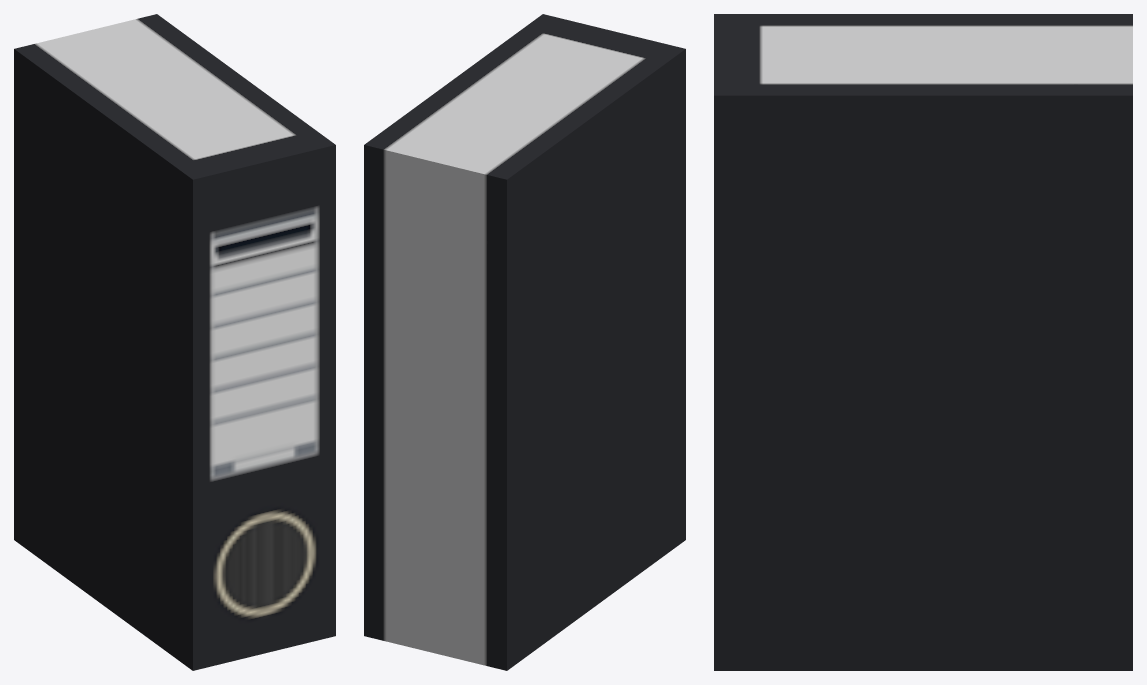
The picture shows the model from 3 angles, left to right: view 1: azimuth 30°, elevation 25°; view 2: azimuth 150°, elevation 25°; view 3: azimuth 270°, elevation 25°; orthographic projection. The views are drawn at different scales.
Visible parts, largest first — view 1: file3; view 2: file3; view 3: file3.
Part boxes in pixels (x1=…): file3: x1=14, y1=14, x2=335, y2=670; file3: x1=364, y1=14, x2=685, y2=670; file3: x1=714, y1=14, x2=1132, y2=670.
Bounding box in the file's own units: 3.38 × 7.32 × 11.1.
